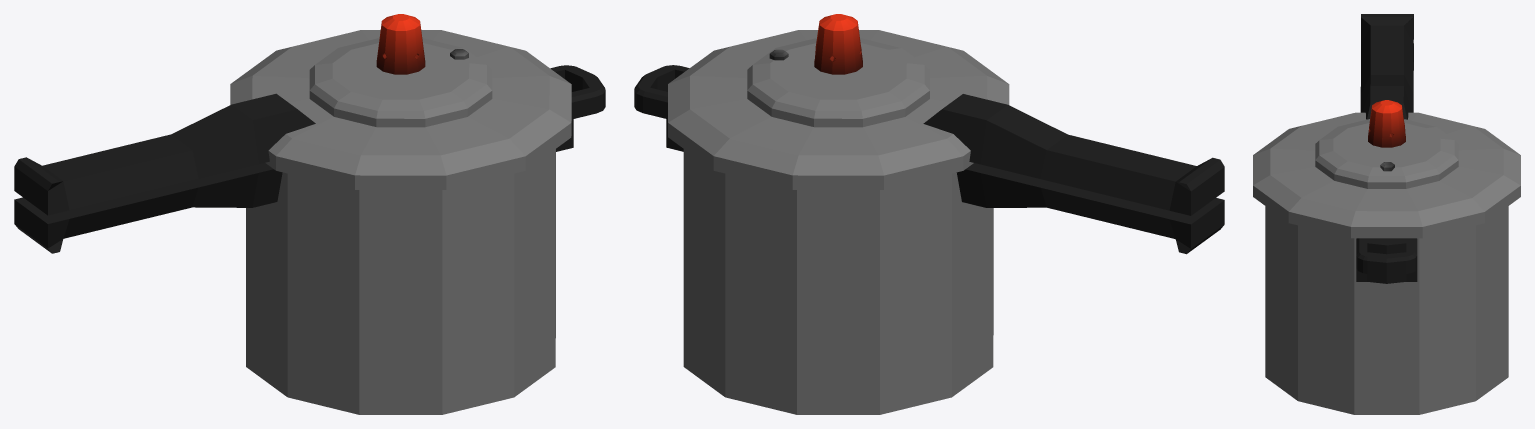
File: panela.fbx
The picture shows the model from 3 angles, left to right: view 1: azimuth 30°, elevation 25°; view 2: azimuth 150°, elevation 25°; view 3: azimuth 270°, elevation 25°; orthographic projection. The views are drawn at different scales.
Parts seen in each view (by area): view 1: panela; view 2: panela; view 3: panela.
Part boxes in pixels (<box>): panela: <box>14,14,605,414</box>; panela: <box>634,14,1224,414</box>; panela: <box>1253,14,1520,414</box>.
Bounding box in the file's own units: 122 × 68.59 × 63.87.
